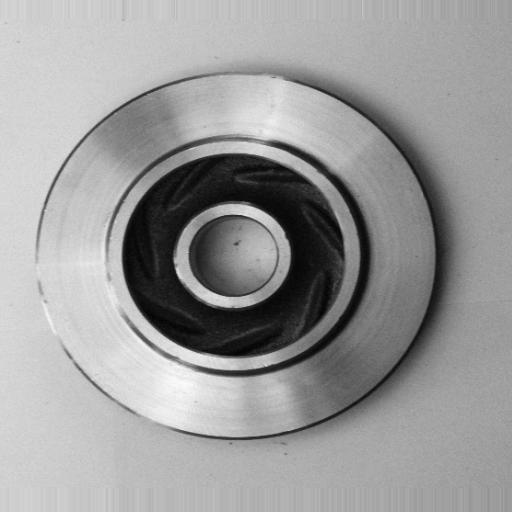scratch: (24, 255, 76, 369), (97, 244, 139, 333)
unpolished_casting: (30, 73, 445, 442)
